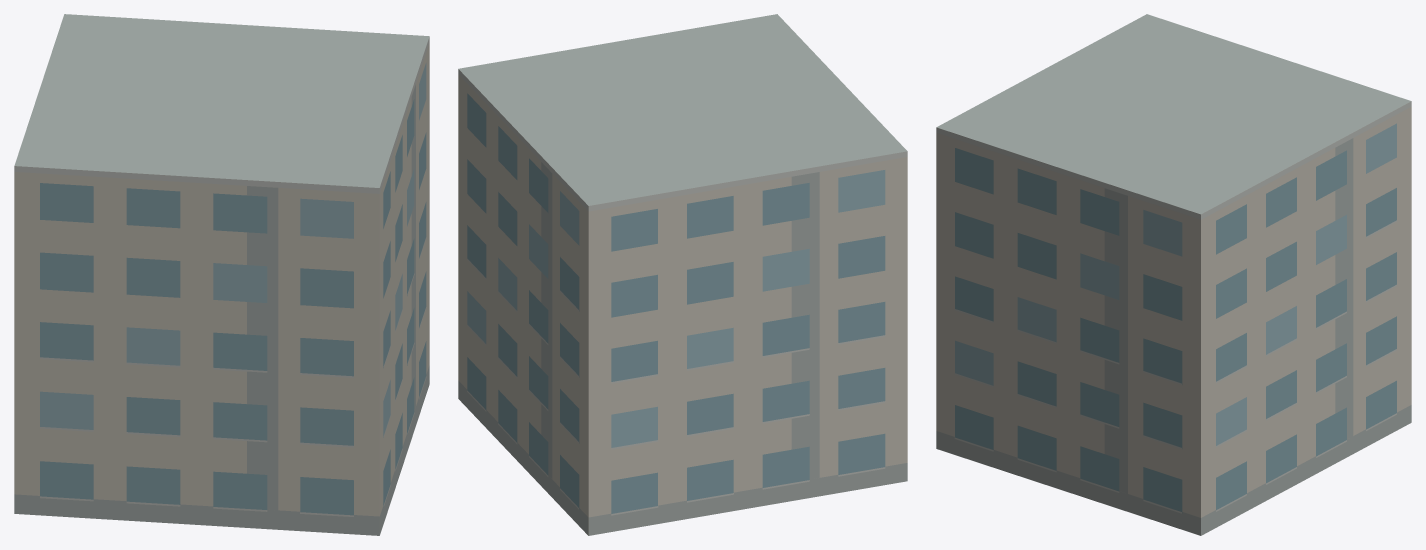
Rendered from survey-upis-32763407.glb.
The picture shows the model from 3 angles, left to right: view 1: azimuth 30°, elevation 25°; view 2: azimuth 150°, elevation 25°; view 3: azimuth 270°, elevation 25°; orthographic projection. The views are drawn at different scales.
Parts seen in each view (by area): view 1: survey-upis-32763407.tmp; view 2: survey-upis-32763407.tmp; view 3: survey-upis-32763407.tmp.
Part boxes in pixels (bbox=[...]): survey-upis-32763407.tmp: bbox=[14, 14, 429, 535]; survey-upis-32763407.tmp: bbox=[458, 14, 907, 535]; survey-upis-32763407.tmp: bbox=[936, 14, 1411, 535].
Size of the model in its own units: 19.4 by 14.5 by 19.44.
